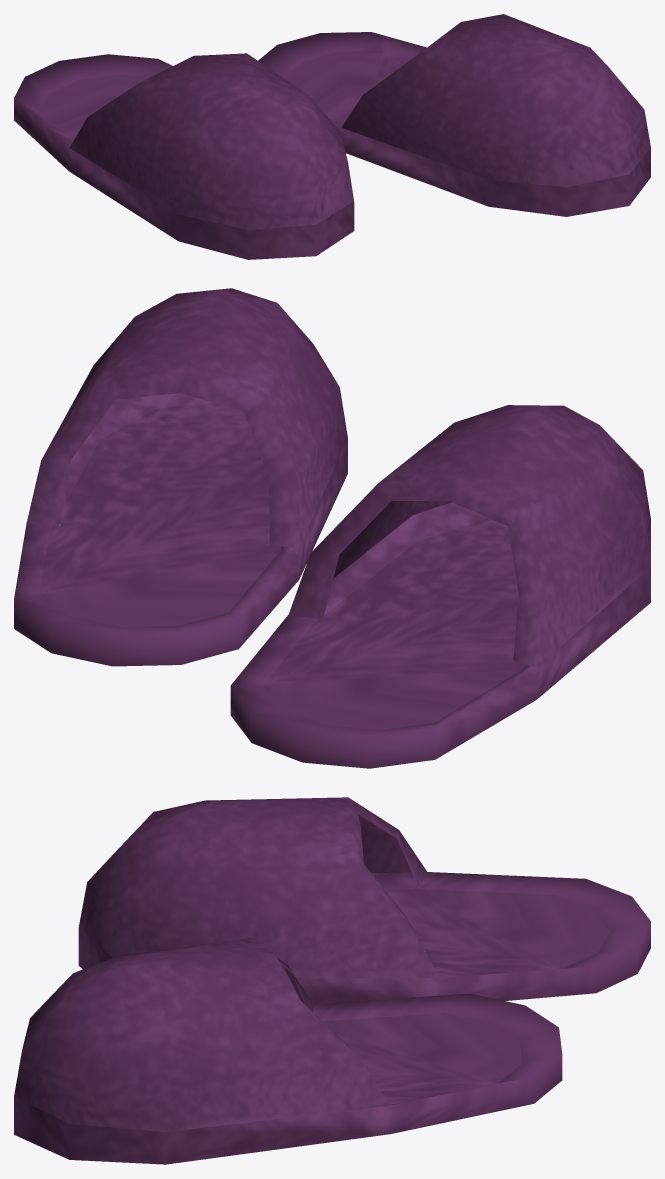
The model's file is Pantufa.fbx.
The picture shows the model from 3 angles, top to bottom: view 1: azimuth 30°, elevation 25°; view 2: azimuth 150°, elevation 25°; view 3: azimuth 270°, elevation 25°; orthographic projection. The views are drawn at different scales.
Visible parts, largest first — view 1: SlipperRoom; view 2: SlipperRoom; view 3: SlipperRoom.
Boxes of the visible parts, box(x1,y1,x2,y2) form: SlipperRoom: box(14, 14, 650, 259); SlipperRoom: box(14, 288, 650, 768); SlipperRoom: box(14, 797, 650, 1164).
Size of the model in its own units: 93.83 by 25.69 by 96.36.
